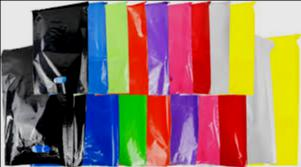Plastic: (31, 7, 90, 97)
